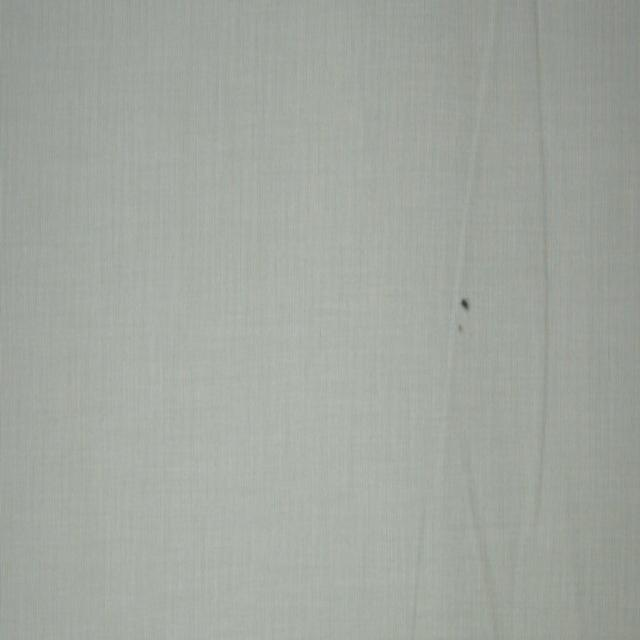dirty: (461, 298, 470, 311), (458, 324, 462, 334)
